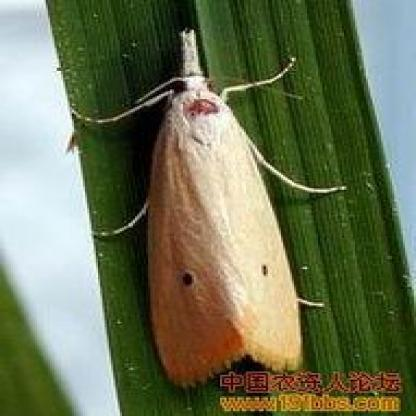stem-borer: (106, 26, 322, 366)
